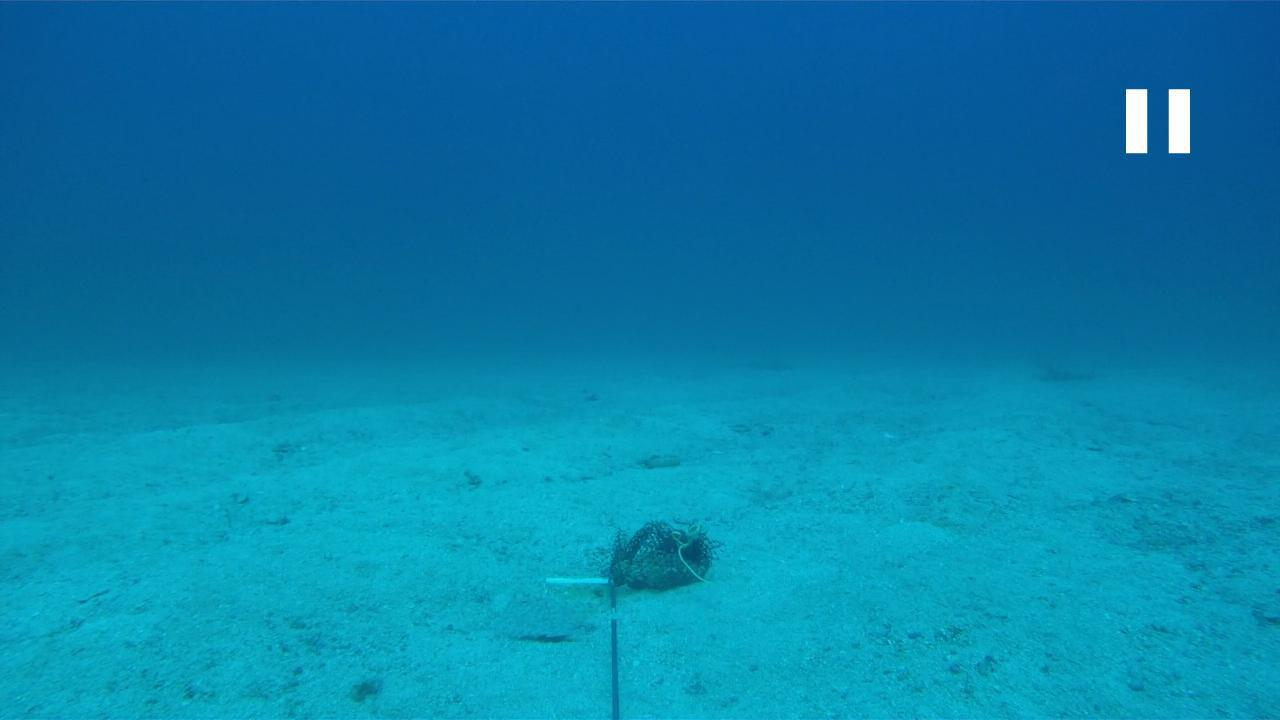bothus: (488, 593, 591, 644)
